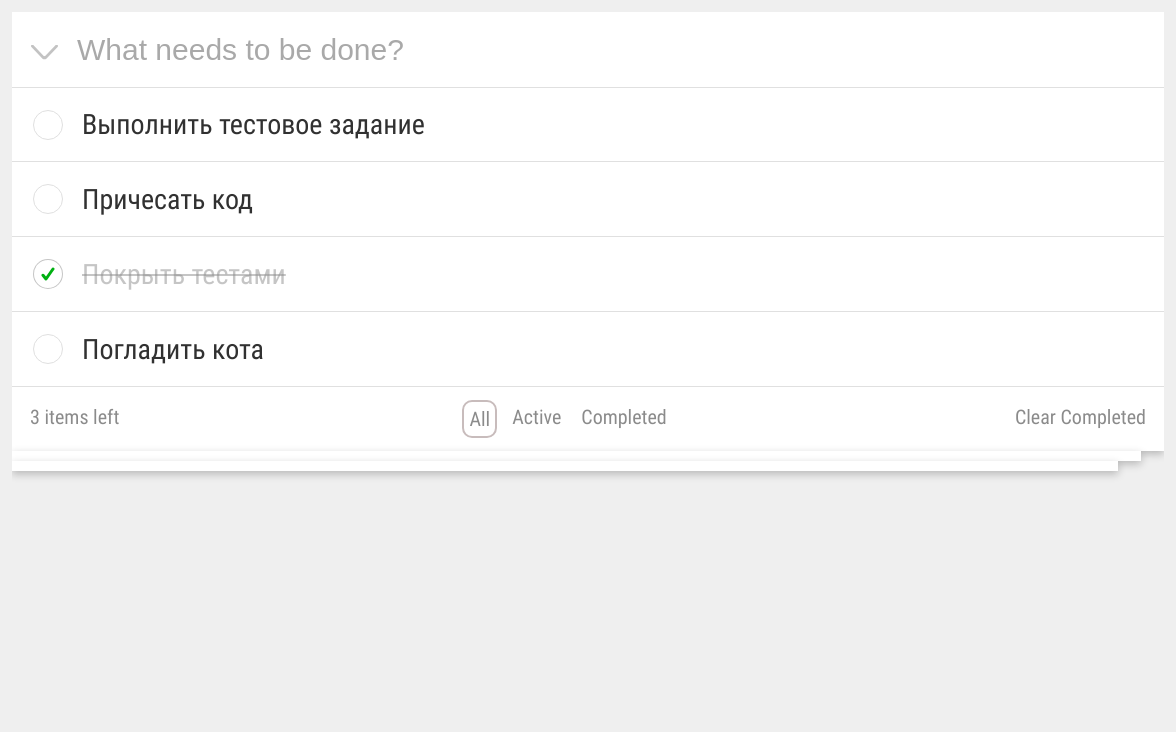
Test: Проверка работоспособности приложения › Добавление новой задачи
Expected: the number of elements with test id "task" is 4, [12,87,1164,162]; [12,162,1164,237]; [12,237,1164,312]; [12,312,1164,387]
Добавление новой задачи в инпут
Type "hello world" into the field with test id "input" at [588, 50], box [12,12,1164,87]
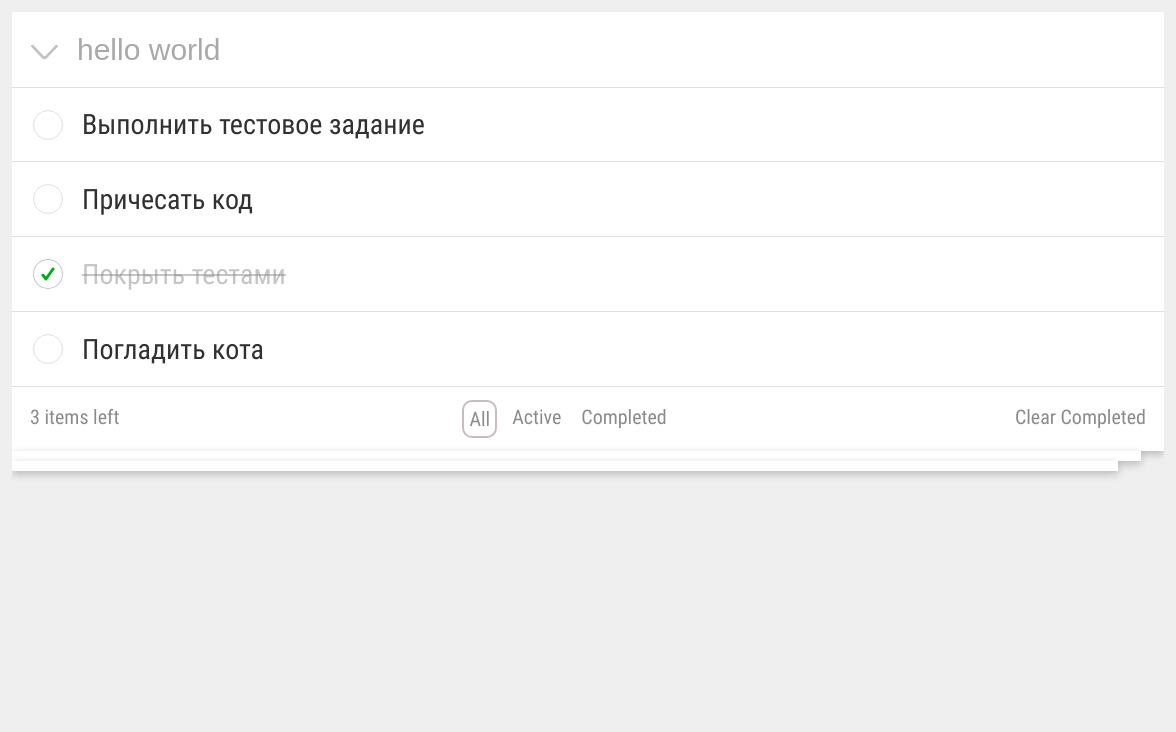
Press Enter in the field with test id "input", box [12,12,1164,87]
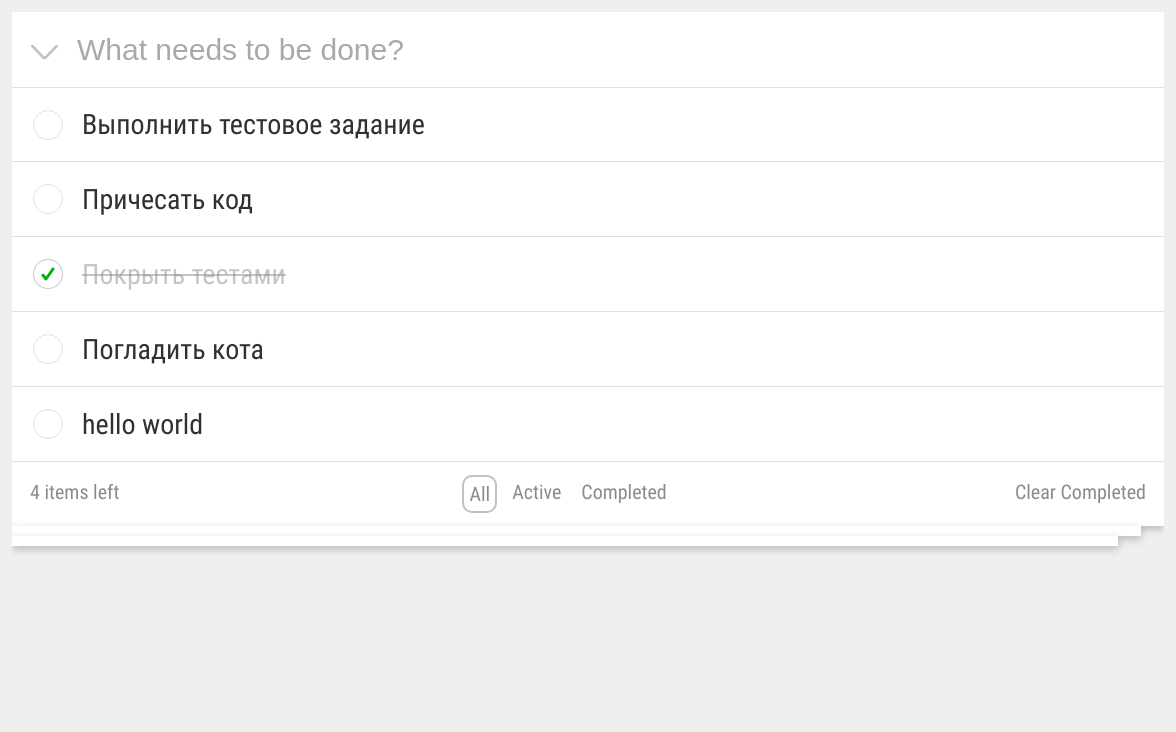
Result: the number of elements with test id "task" is 5 at [12,87,1164,162]; [12,162,1164,237]; [12,237,1164,312]; [12,312,1164,387]; [12,387,1164,462]
Result: the element with test id "task" reads "hello world" at [82,408,203,440]
